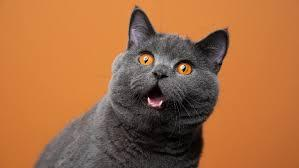Cat: (112, 18, 236, 118)
